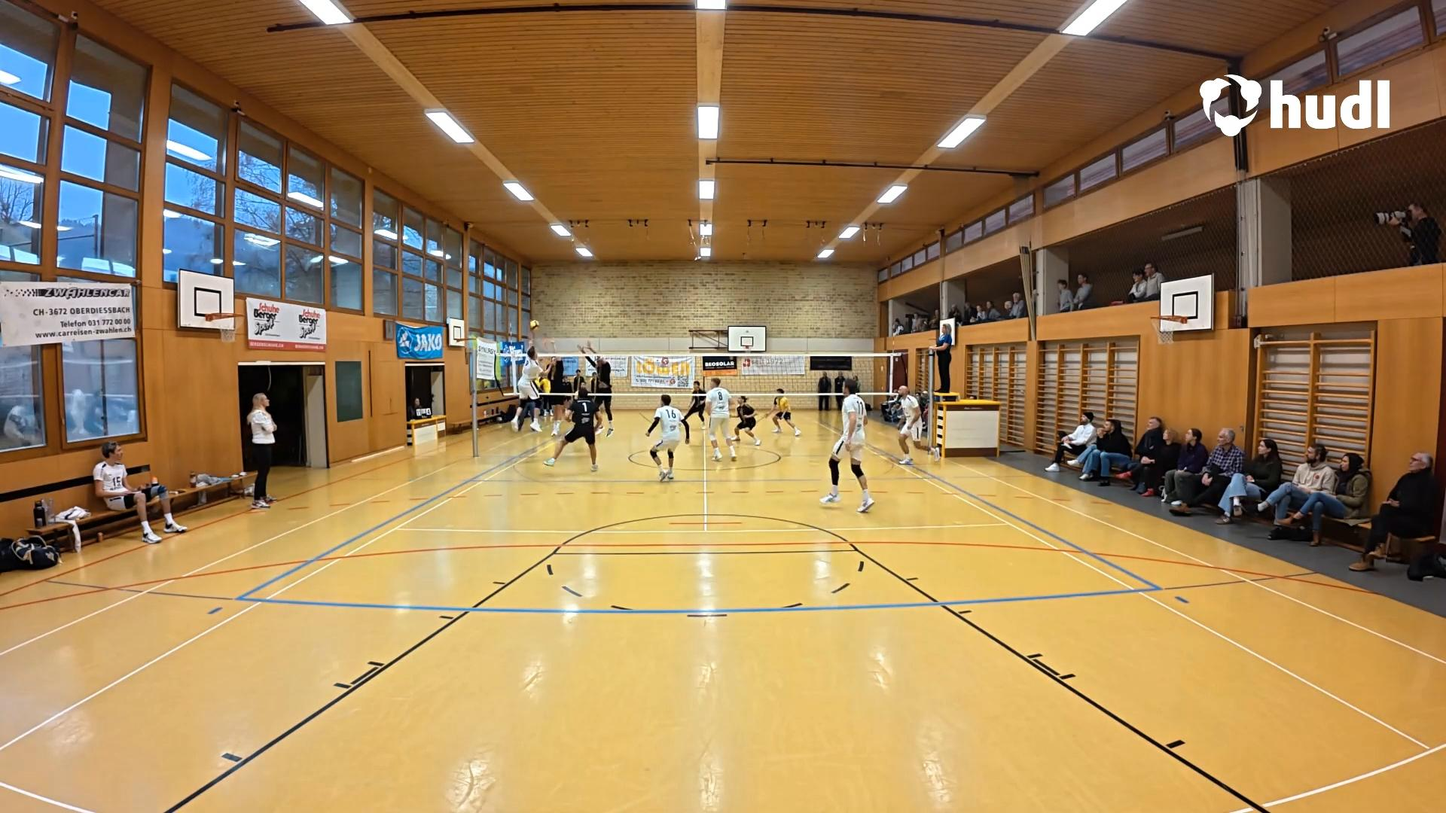attacco: (507, 319, 544, 440)
muro: (579, 339, 613, 434), (536, 336, 567, 436)
